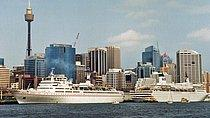Ship: (11, 70, 129, 106)
